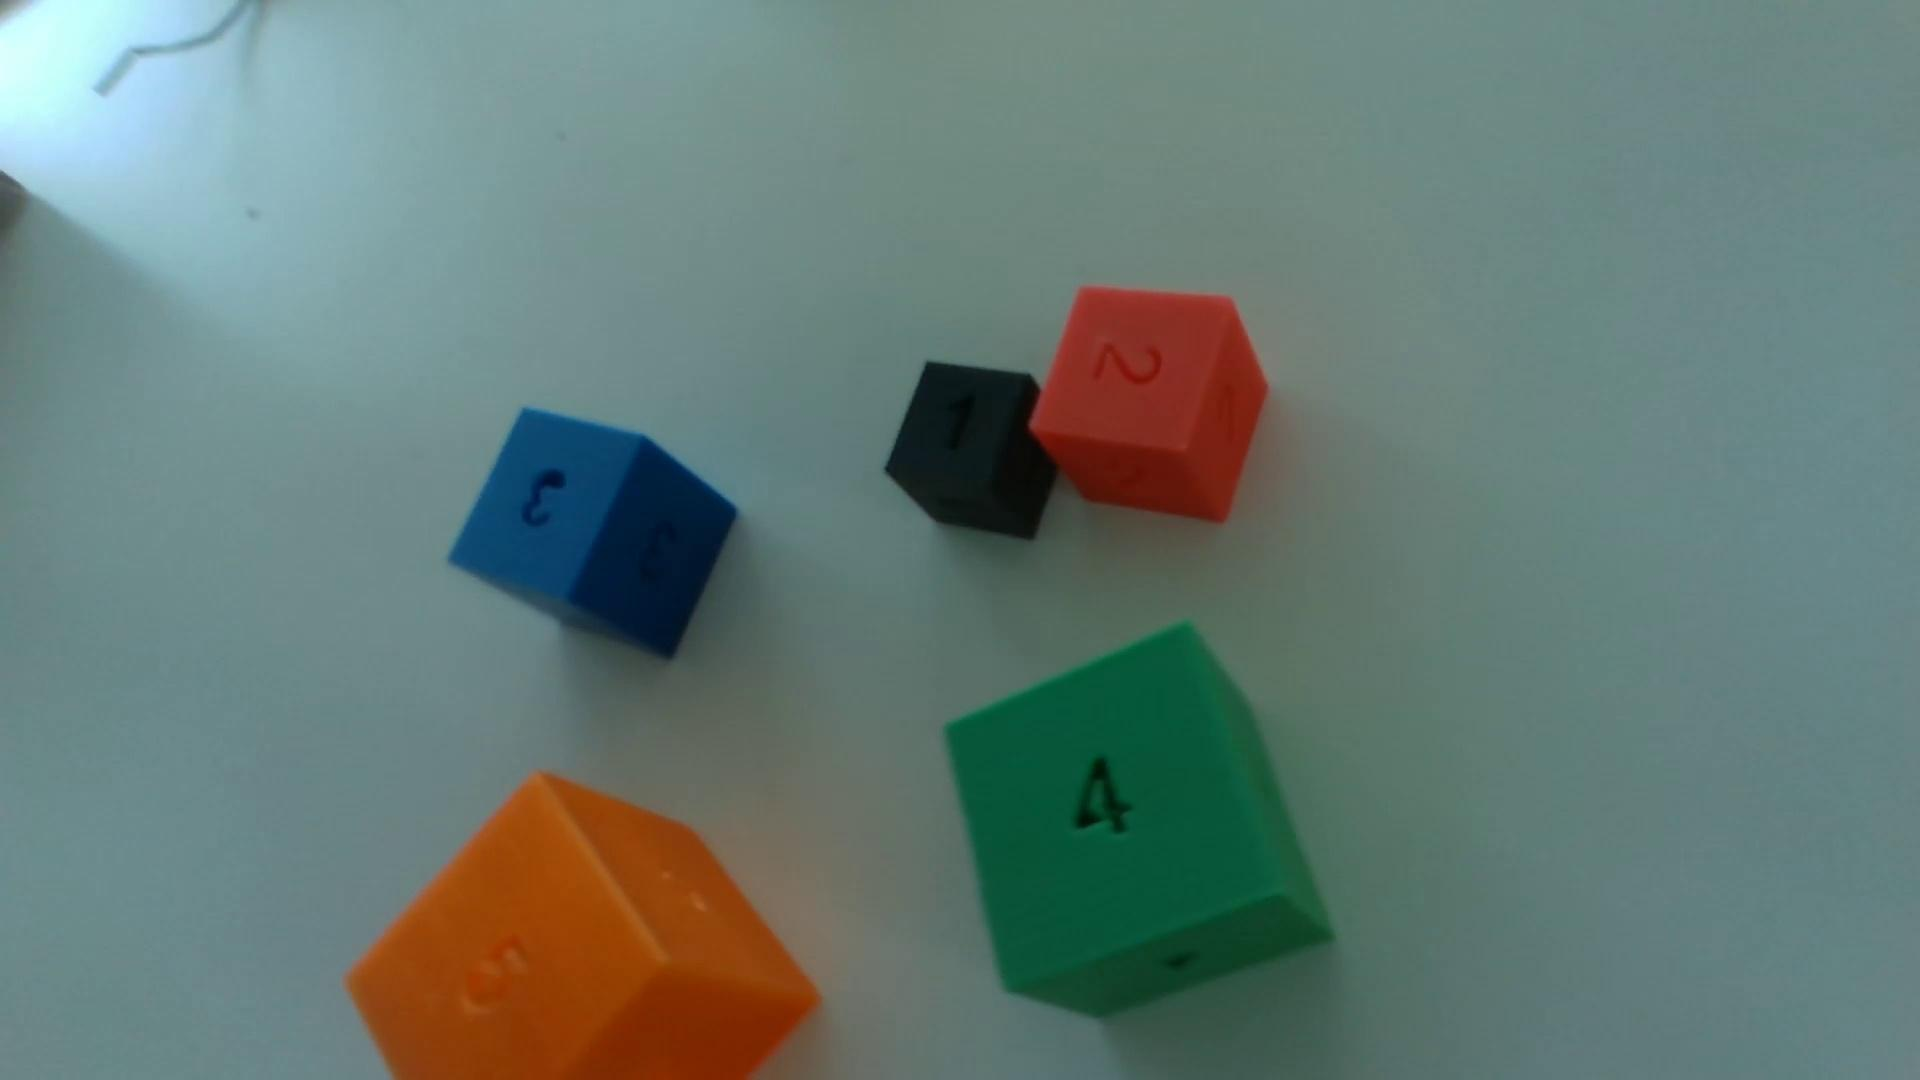black: (884, 363, 1056, 541)
blue: (448, 409, 738, 658)
green: (947, 626, 1332, 1017)
orange: (347, 775, 818, 1080)
red: (1031, 287, 1267, 524)
